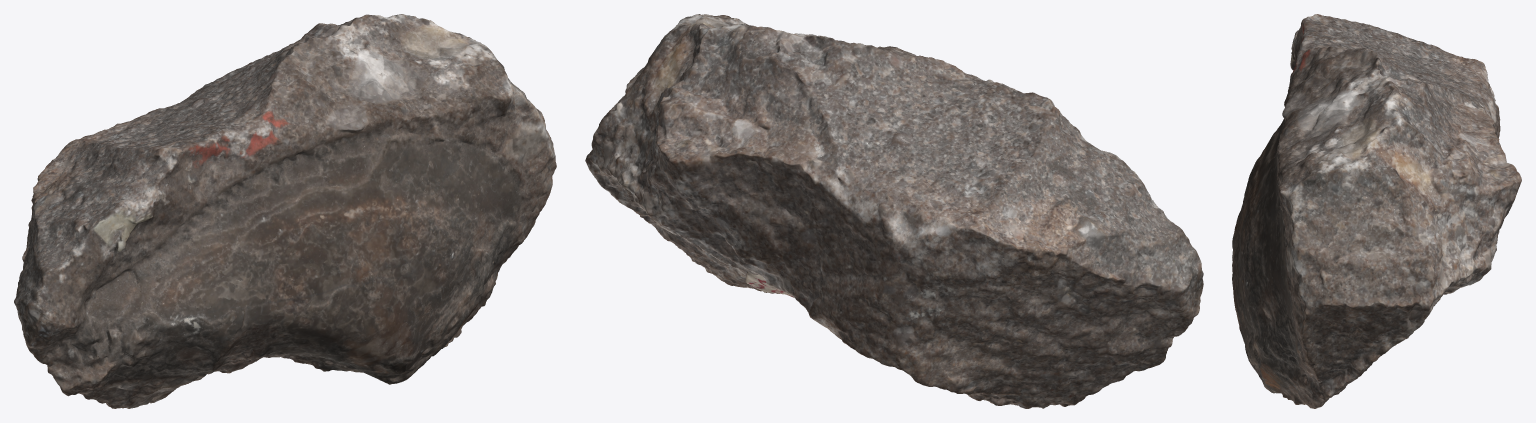
The model's file is EWS0016582.glb.
3 views of the same model, side by side, from view 1: azimuth 30°, elevation 25°; view 2: azimuth 150°, elevation 25°; view 3: azimuth 270°, elevation 25° (orthographic). The views are drawn at different scales.
Parts seen in each view (by area): view 1: input; view 2: input; view 3: input.
Part boxes in pixels (bbox=[...]): input: bbox=[14, 14, 556, 408]; input: bbox=[585, 14, 1203, 408]; input: bbox=[1232, 14, 1521, 408].
Bounding box in the file's own units: 0.0564 × 0.0321 × 0.0266.
1 material, 1 textured.
